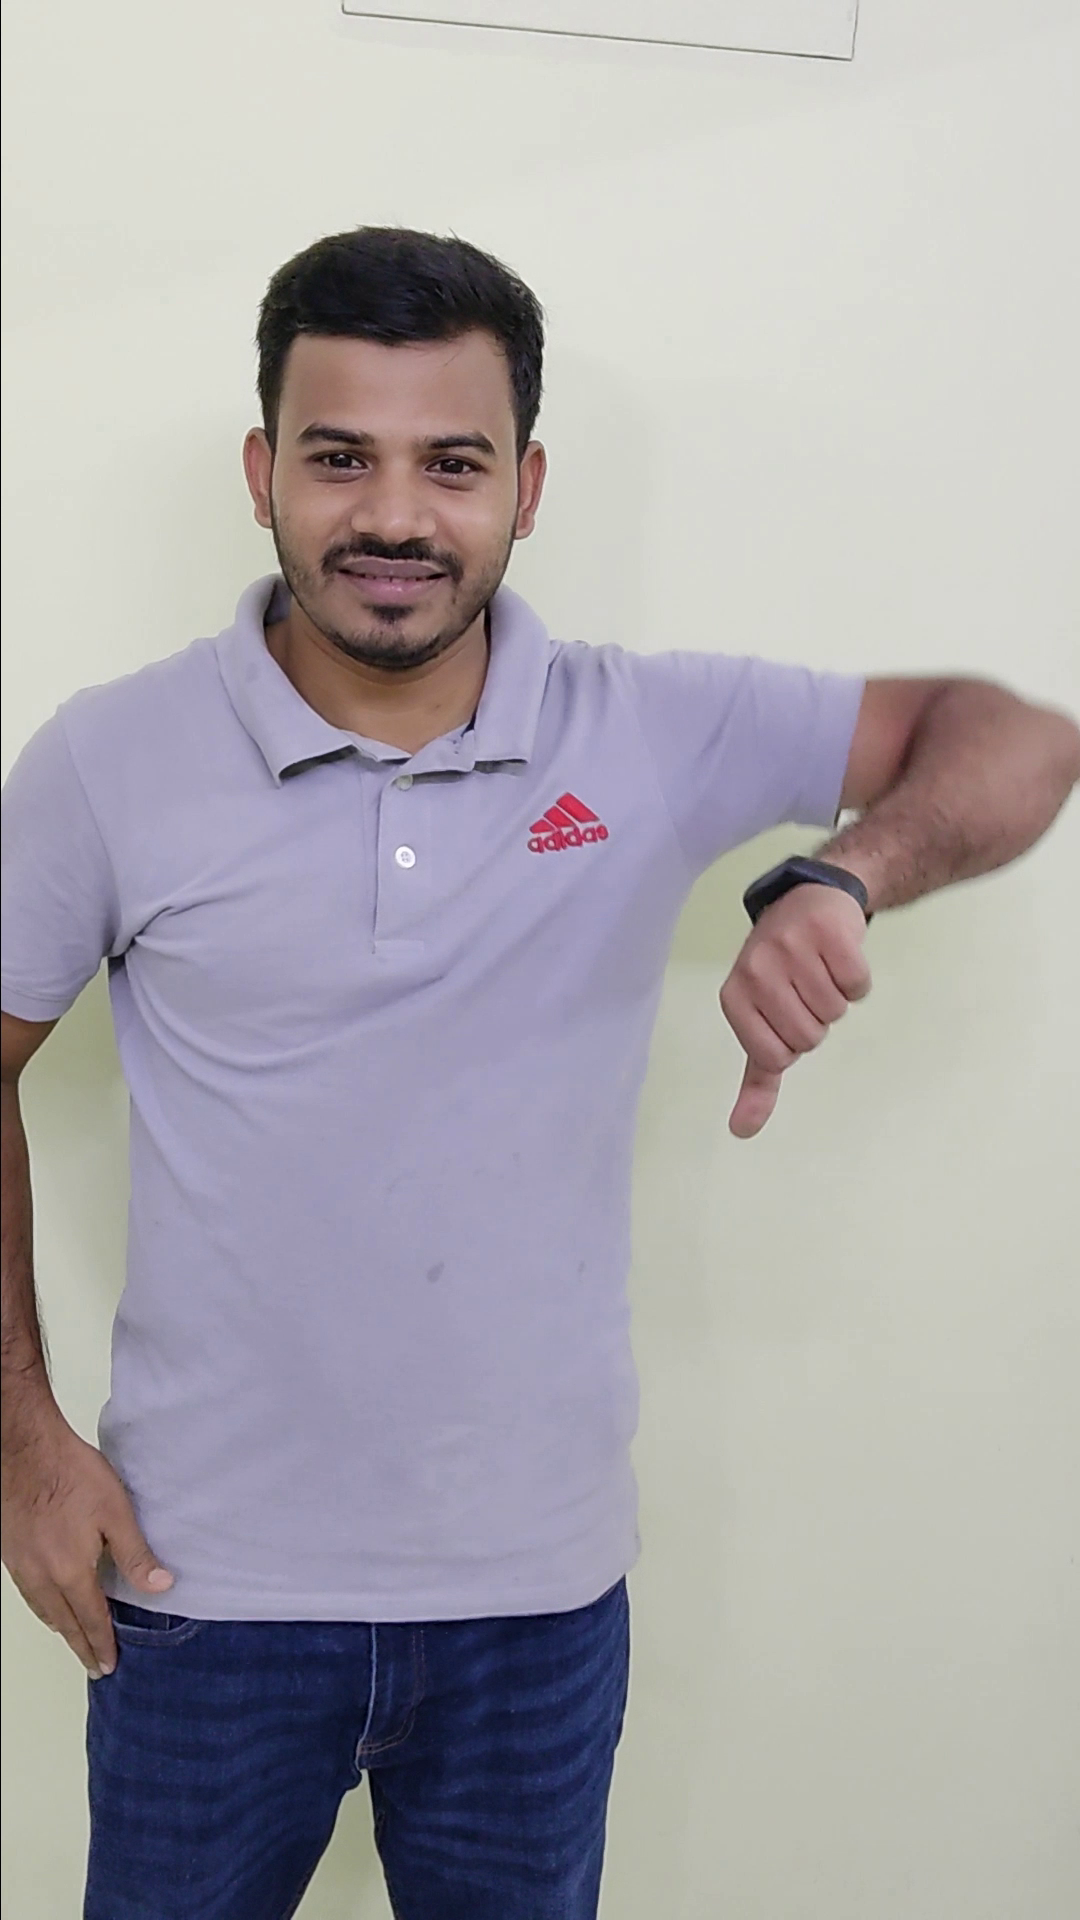Dislike: (673, 837, 924, 1164)
None: (3, 1391, 189, 1683)
